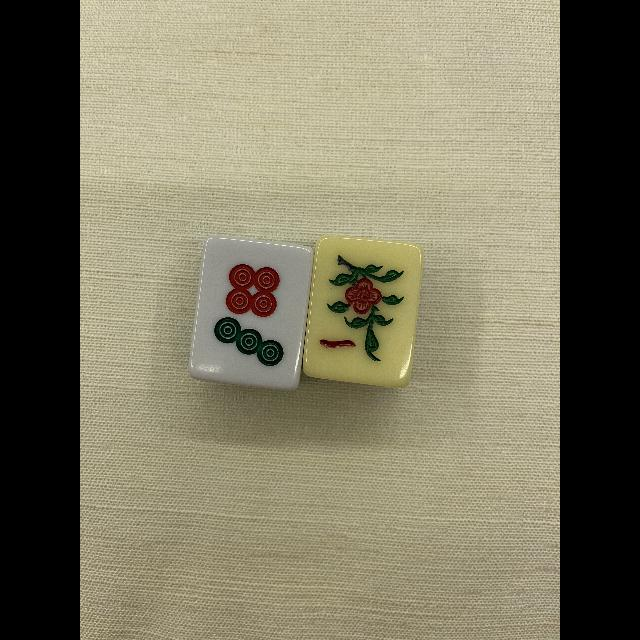d7: (196, 240, 302, 382)
s1-s: (312, 240, 416, 378)
